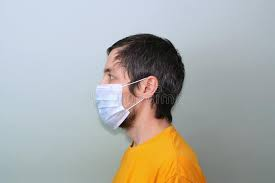masked: (85, 35, 188, 134)
